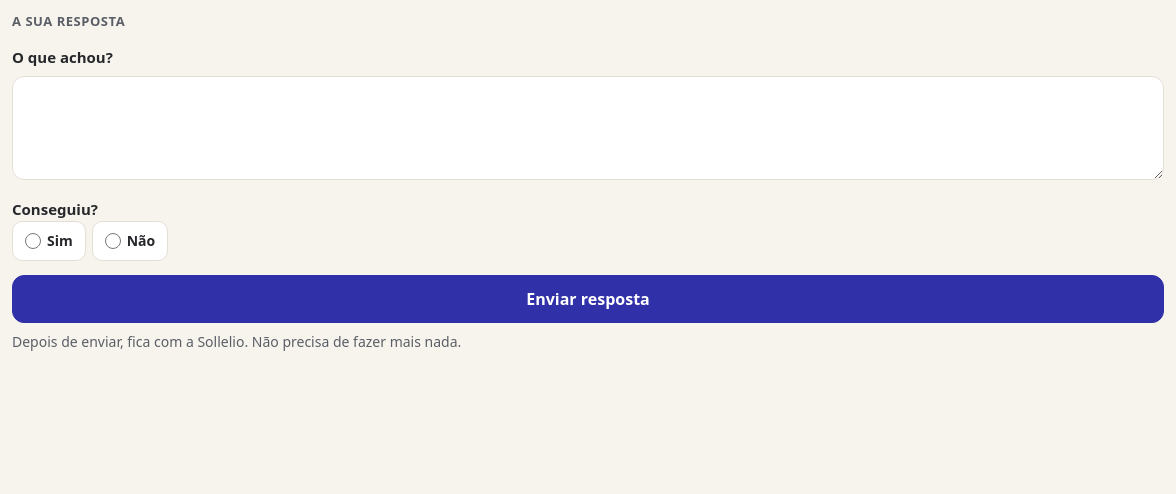
Test: initial round › renders one real control per field and names what is missing before sending anything
Expected: the text box labelled "O que achou?" is shown, 12,76 -> 1164,180
Expected: the radio button labelled "Sim" is shown, 25,232 -> 41,248
Click the button "Enviar resposta" at (588, 298), box 12,274 -> 1164,322
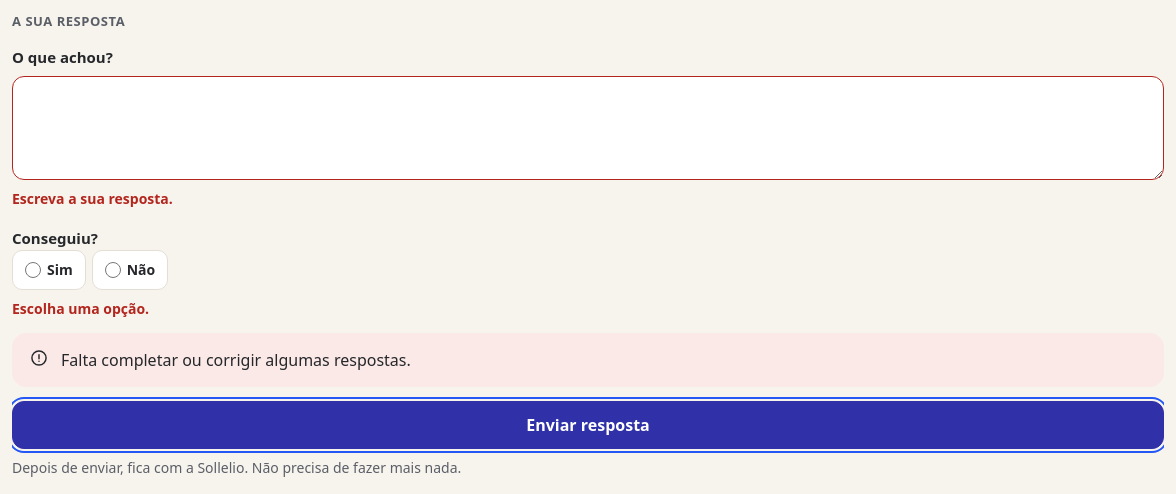
Expected: the text "Escreva a sua resposta." is shown, 12,189 -> 173,208
Expected: the text "Escolha uma opção." is shown, 12,298 -> 149,318
